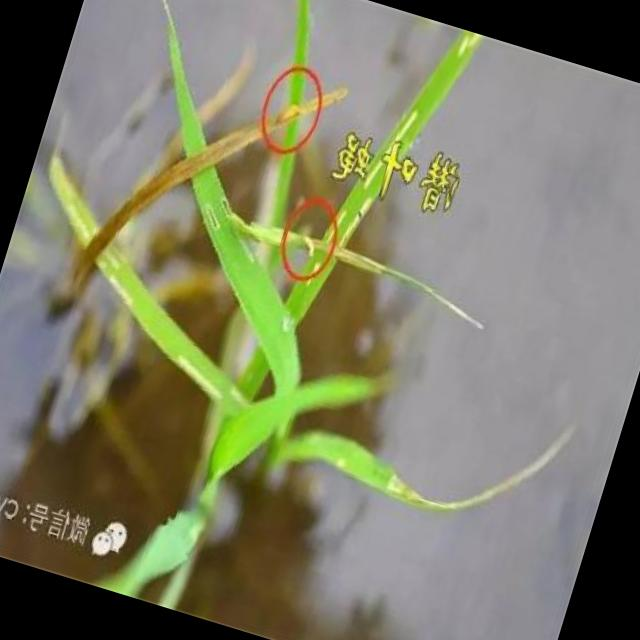whorl-maggot: (294, 226, 323, 264)
